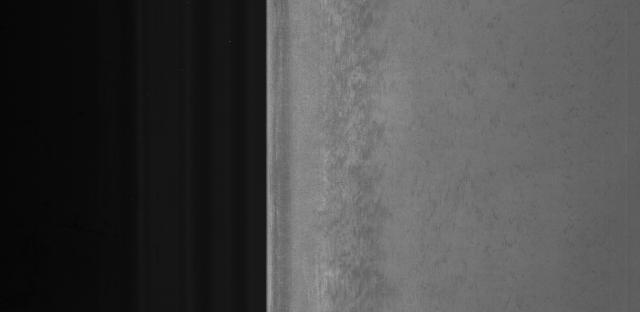silk_spot: (316, 23, 396, 297)
